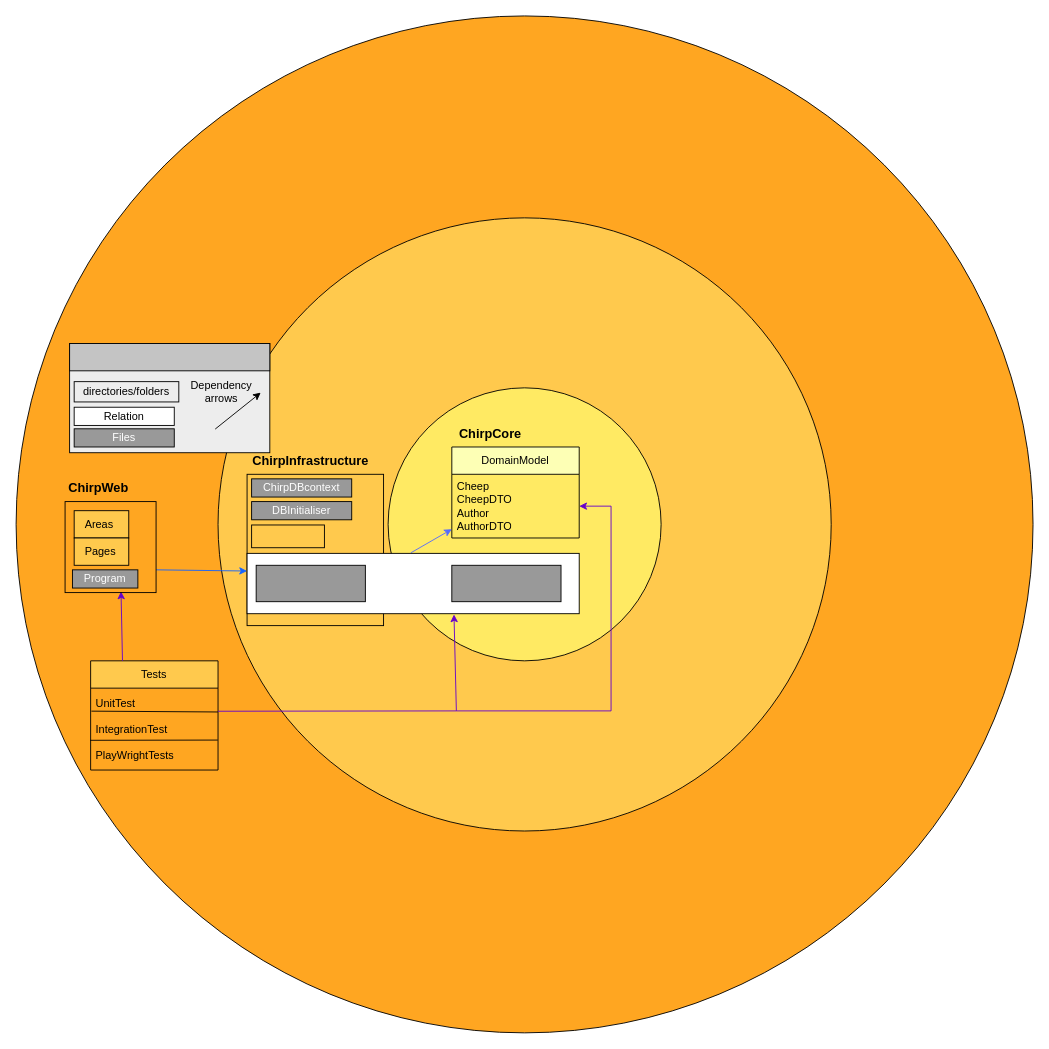
Image size: 1049x1049. Some labels were removed from this diagram. The centre of each missing label's shape, as x and y in pixels:
"CheepRepository AuthorRepository" goes at pixel 310 583.
"ICheepRepository IAuthorRepository" goes at pixel 506 583.
"Legend" goes at pixel 169 357.
"Migrations" goes at pixel 287 536.
